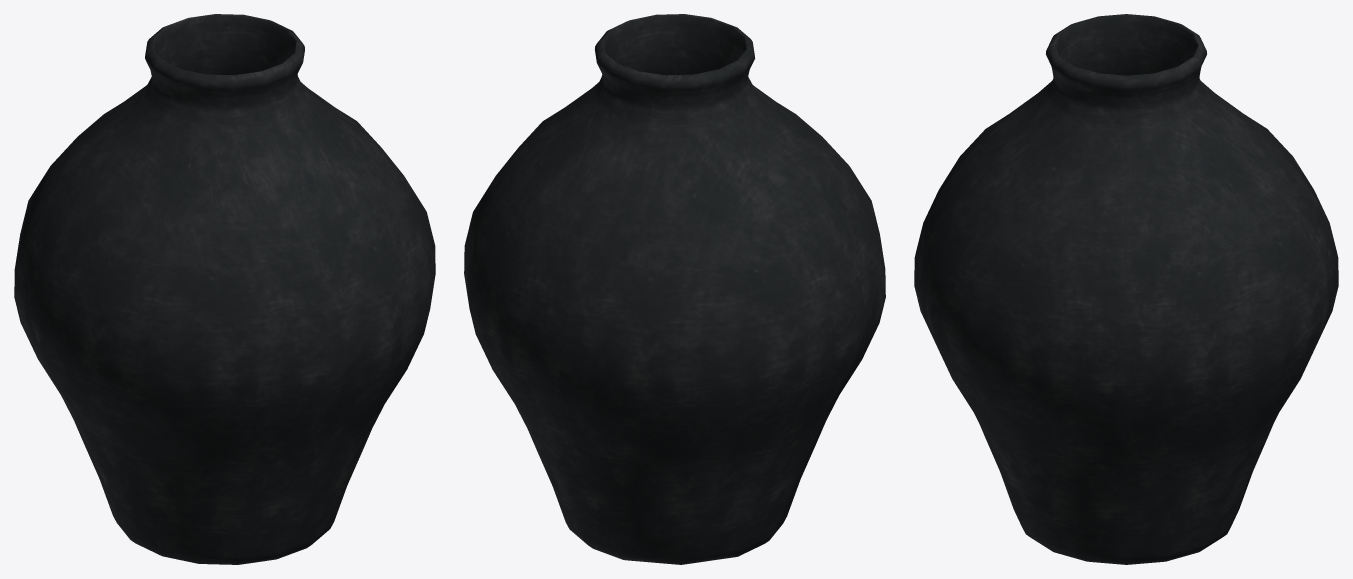
Rendered from SM_Mado_PotteryA.fbx.
3 renders of one model, left to right at view 1: azimuth 30°, elevation 25°; view 2: azimuth 150°, elevation 25°; view 3: azimuth 270°, elevation 25°, orthographic.
Visible parts, largest first — view 1: SM_Mado_PotteryA; view 2: SM_Mado_PotteryA; view 3: SM_Mado_PotteryA.
Part boxes in pixels (x1,y1,x2,y2): SM_Mado_PotteryA: [14, 14, 435, 564]; SM_Mado_PotteryA: [464, 14, 885, 564]; SM_Mado_PotteryA: [914, 14, 1338, 564].
Size of the model in its own units: 55.47 by 55.47 by 69.24.
Materials: 1 (1 with a texture image).
